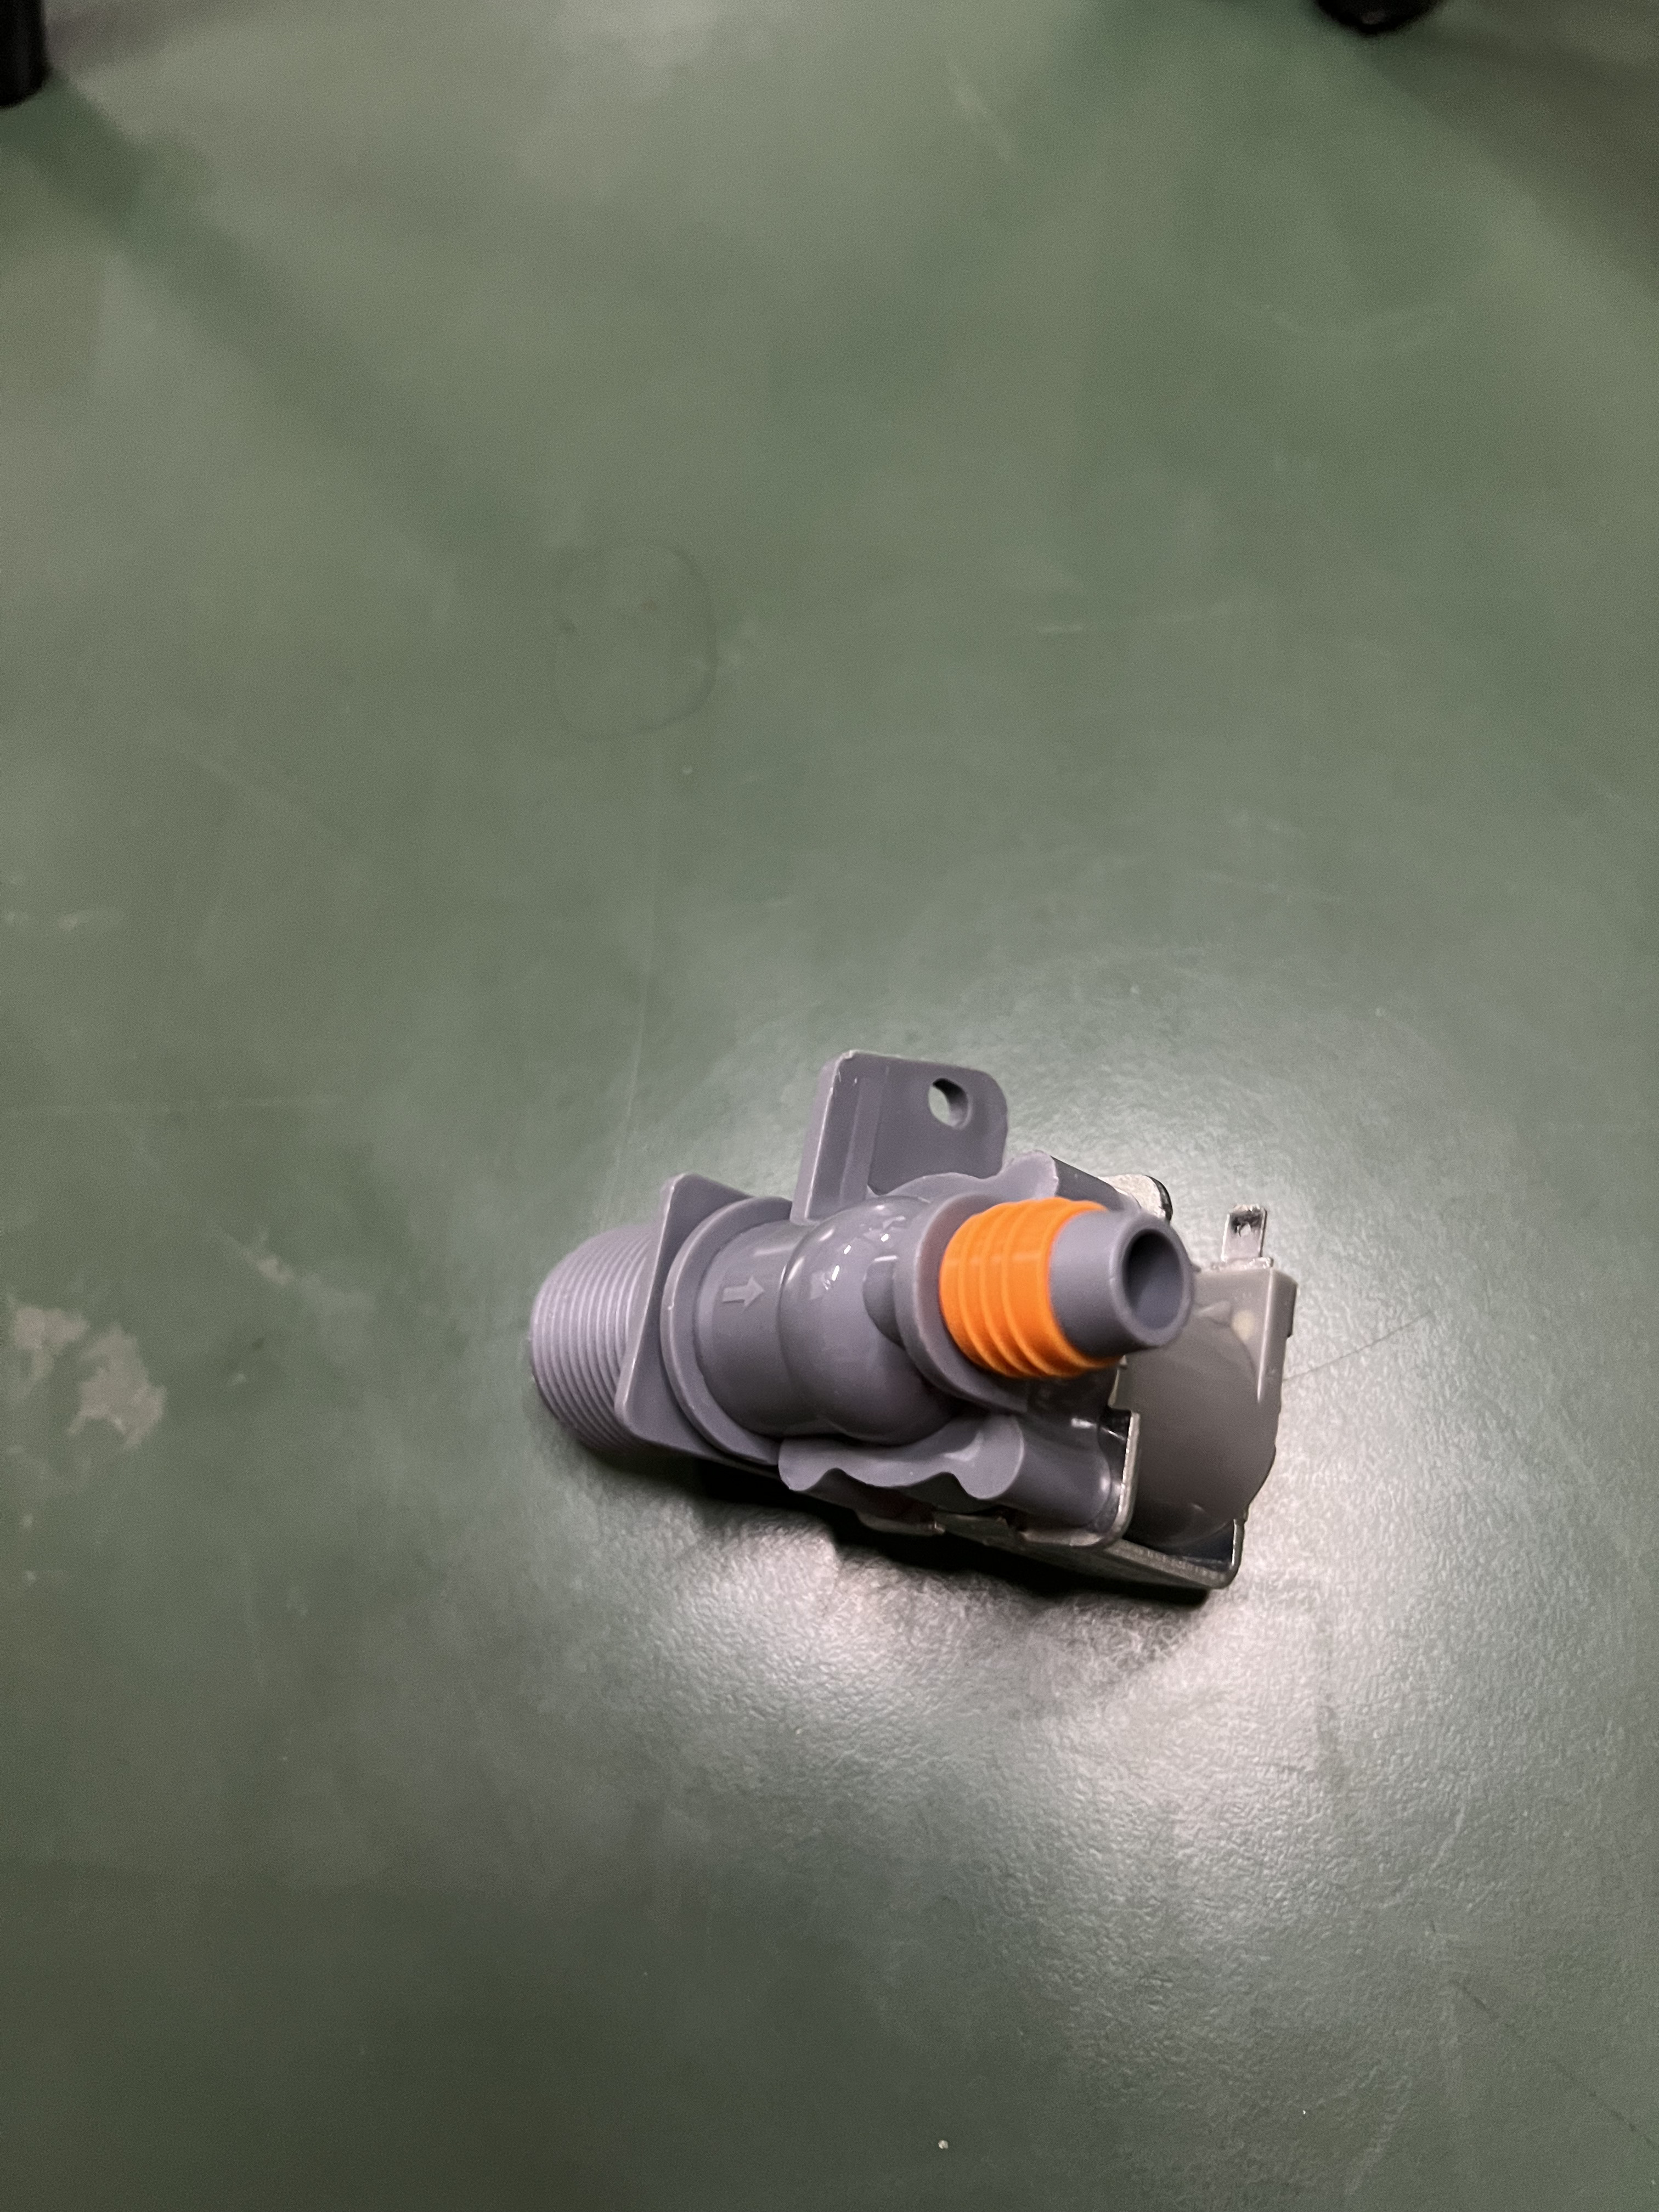inlet_valves: (504, 1012, 1323, 1625)
